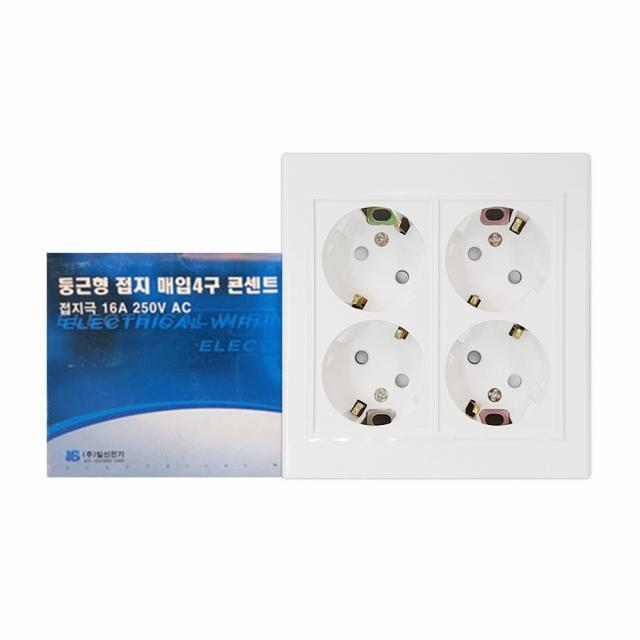typeb: (271, 115, 632, 558)
